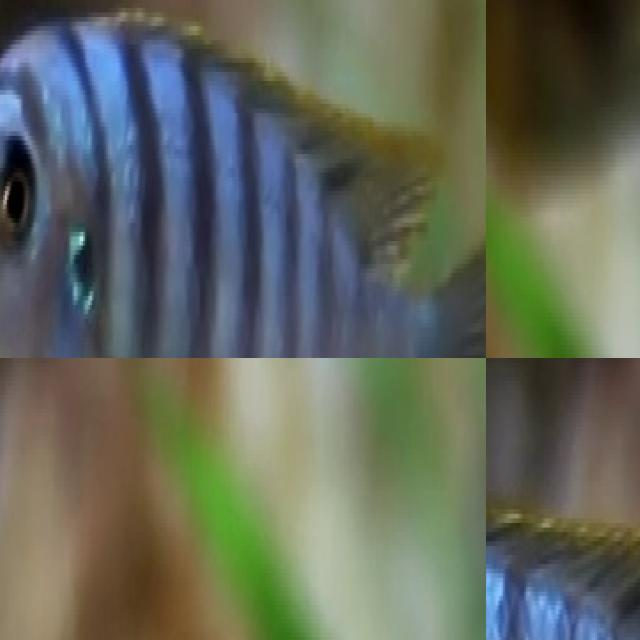fish: (0, 0, 486, 358), (486, 0, 640, 207), (486, 459, 640, 640)
